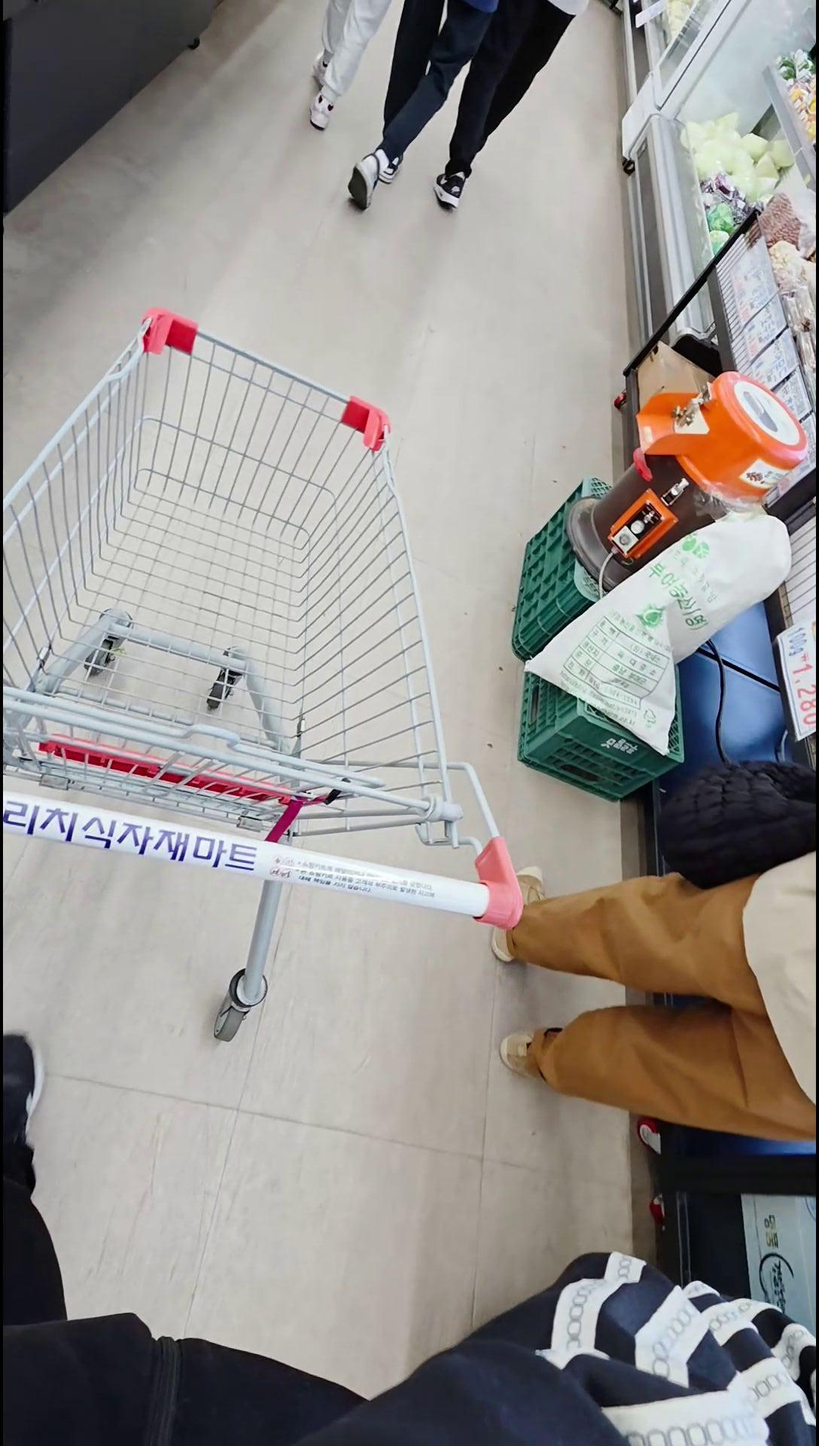empty_cart: (10, 309, 529, 1034)
